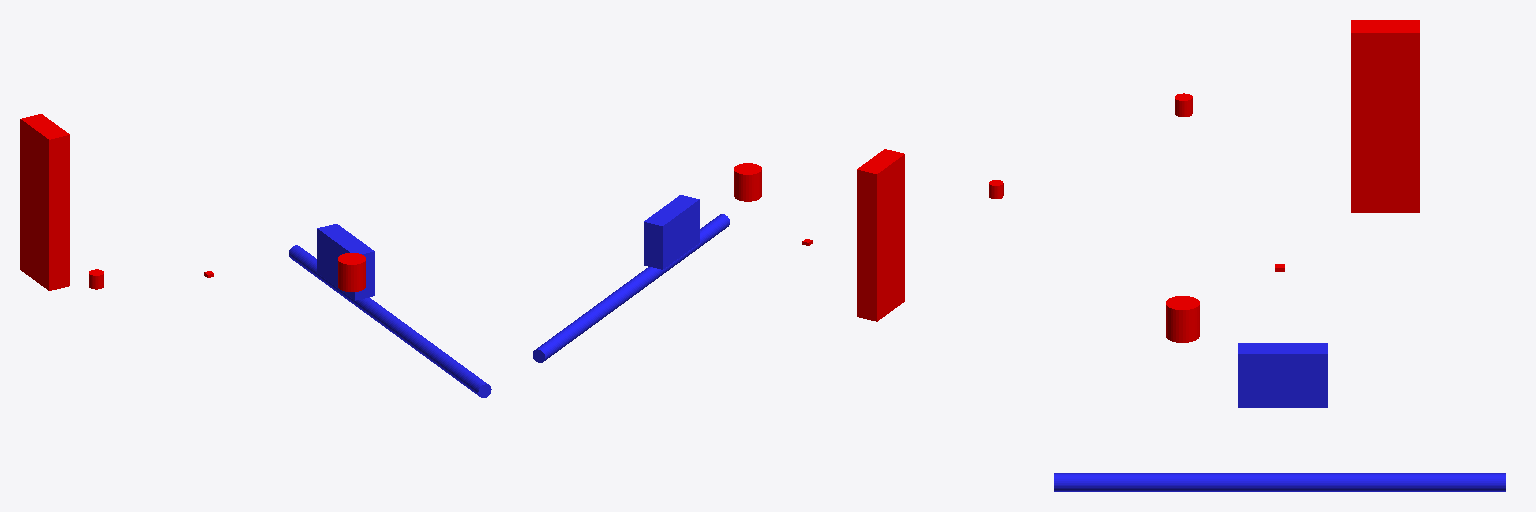
The robot description file, URDF, robot "wheele":
<?xml version="1.0" ?>
<!-- =================================================================================== -->
<!-- |    This document was autogenerated by xacro from model.urdf.xacro               | -->
<!-- |    EDITING THIS FILE BY HAND IS NOT RECOMMENDED                                 | -->
<!-- =================================================================================== -->
<robot name="wheele">
  <!-- Specify some standard inertial calculations https://en.wikipedia.org/wiki/List_of_moments_of_inertia -->
  <!-- These make use of xacro's mathematical functionality -->
  <material name="white">
    <color rgba="1 1 1 1"/>
  </material>
  <material name="orange">
    <color rgba="1 0.3 0.1 1"/>
  </material>
  <material name="blue">
    <color rgba="0.2 0.2 1 1"/>
  </material>
  <material name="black">
    <color rgba="0 0 0 1"/>
  </material>
  <material name="red">
    <color rgba="1 0 0 1"/>
  </material>
  <!-- MACRO FOR THE WHEELS -->
  <!-- BASE LINK -->
  <link name="base_footprint">
    </link>
  <!-- BASE_FOOTPRINT LINK -->
  <joint name="base_footprint_joint" type="fixed">
    <parent link="base_footprint"/>
    <child link="base_link"/>
    <origin rpy="0 0 0" xyz="0 0 0"/>
  </joint>
  <link name="base_link">

    </link>
  <!-- CHASSIS LINK -->
  <joint name="chassis_joint" type="fixed">
    <parent link="base_link"/>
    <child link="chassis"/>
    <origin xyz="0 0 0"/>
  </joint>
  <link name="chassis">
    <visual>
      <origin rpy="0 0 1.5707963267948966" xyz="0 0 0"/>
      <geometry>
        <mesh filename="file:[local-path]/humble_ws/wheele/src/wheele_model/description/src/wheele_model/description/mesh/body_robot_2.dae" scale="1 1 1"/>
      </geometry>
      <material name="orange"/>
    </visual>
    <collision>
      <origin xyz="0 0 0.0965"/>
      <geometry>
        <box size="0.558 0.313 0.193"/>
      </geometry>
    </collision>
    <inertial>
      <origin rpy="0 0 0" xyz="0 0 0.0965"/>
      <mass value="0.5"/>
      <inertia ixx="0.005634083333333333" ixy="0.0" ixz="0.0" iyy="0.01452554166666667" iyz="0.0" izz="0.017055541666666667"/>
    </inertial>
  </link>
  <gazebo reference="chassis">
    <material>Gazebo/Orange</material>
  </gazebo>
  <joint name="base_to_front_right_steering" type="continuous">
    <parent link="base_link"/>
    <child link="front_right_steering"/>
    <origin rpy="0 0 0" xyz="0.1565 0.29050000000000004 0"/>
    <axis xyz="0 0 1"/>
  </joint>
  <!-- fake link to simulate the steering-->
  <link name="front_right_steering">
    <inertial>
      <mass value="0.0005"/>
      <inertia ixx="0.0000018" ixy="0.0" ixz="0.0" iyy="0.0000018" iyz="0.0" izz="0.0000018"/>
    </inertial>
  </link>
  <joint name="steering_to_front_right_wheel" type="continuous">
    <parent link="front_right_steering"/>
    <child link="front_right_wheel"/>
    <origin rpy="0 0 0" xyz="0 0 0.07"/>
    <axis xyz="0 1 0"/>
  </joint>
  <link name="front_right_wheel">
    <visual>
      <geometry>
        <mesh filename="file:[local-path]/humble_ws/wheele/src/wheele_model/description/src/wheele_model/description/mesh/Wheel.dae" scale="1 1 1"/>
      </geometry>
      <origin rpy="0 0 3.141592653589793" xyz="0 0 0"/>
      <material name="white"/>
    </visual>
    <collision>
      <geometry>
        <cylinder length="0.085" radius="0.07"/>
      </geometry>
      <origin rpy="1.5707963267948966 0 0" xyz="0 0 0"/>
    </collision>
    <inertial>
      <origin rpy="0 0 0" xyz="0 0 0"/>
      <mass value="0.05"/>
      <inertia ixx="9.135416666666668e-05" ixy="0.0" ixz="0.0" iyy="9.135416666666668e-05" iyz="0.0" izz="0.00012250000000000002"/>
    </inertial>
  </link>
  <gazebo reference="front_right_wheel">
    <material>Gazebo/Blue</material>
  </gazebo>
  <joint name="base_to_front_left_steering" type="continuous">
    <parent link="base_link"/>
    <child link="front_left_steering"/>
    <origin rpy="0 0 0" xyz="0.1565 -0.29050000000000004 0"/>
    <axis xyz="0 0 1"/>
  </joint>
  <!-- fake link to simulate the steering-->
  <link name="front_left_steering">
    <inertial>
      <mass value="0.0005"/>
      <inertia ixx="0.0000018" ixy="0.0" ixz="0.0" iyy="0.0000018" iyz="0.0" izz="0.0000018"/>
    </inertial>
  </link>
  <joint name="steering_to_front_left_wheel" type="continuous">
    <parent link="front_left_steering"/>
    <child link="front_left_wheel"/>
    <origin rpy="0 0 0" xyz="0 0 0.07"/>
    <axis xyz="0 1 0"/>
  </joint>
  <link name="front_left_wheel">
    <visual>
      <geometry>
        <mesh filename="file:[local-path]/humble_ws/wheele/src/wheele_model/description/src/wheele_model/description/mesh/Wheel.dae" scale="1 1 1"/>
      </geometry>
      <origin rpy="0 0 0.0" xyz="0 0 0"/>
      <material name="white"/>
    </visual>
    <collision>
      <geometry>
        <cylinder length="0.085" radius="0.07"/>
      </geometry>
      <origin rpy="1.5707963267948966 0 0" xyz="0 0 0"/>
    </collision>
    <inertial>
      <origin rpy="0 0 0" xyz="0 0 0"/>
      <mass value="0.05"/>
      <inertia ixx="9.135416666666668e-05" ixy="0.0" ixz="0.0" iyy="9.135416666666668e-05" iyz="0.0" izz="0.00012250000000000002"/>
    </inertial>
  </link>
  <gazebo reference="front_left_wheel">
    <material>Gazebo/Blue</material>
  </gazebo>
  <joint name="base_to_rear_right_steering" type="continuous">
    <parent link="base_link"/>
    <child link="rear_right_steering"/>
    <origin rpy="0 0 0" xyz="-0.1565 0.29050000000000004 0"/>
    <axis xyz="0 0 1"/>
  </joint>
  <!-- fake link to simulate the steering-->
  <link name="rear_right_steering">
    <inertial>
      <mass value="0.0005"/>
      <inertia ixx="0.0000018" ixy="0.0" ixz="0.0" iyy="0.0000018" iyz="0.0" izz="0.0000018"/>
    </inertial>
  </link>
  <joint name="steering_to_rear_right_wheel" type="continuous">
    <parent link="rear_right_steering"/>
    <child link="rear_right_wheel"/>
    <origin rpy="0 0 0" xyz="0 0 0.07"/>
    <axis xyz="0 1 0"/>
  </joint>
  <link name="rear_right_wheel">
    <visual>
      <geometry>
        <mesh filename="file:[local-path]/humble_ws/wheele/src/wheele_model/description/src/wheele_model/description/mesh/Wheel.dae" scale="1 1 1"/>
      </geometry>
      <origin rpy="0 0 3.141592653589793" xyz="0 0 0"/>
      <material name="white"/>
    </visual>
    <collision>
      <geometry>
        <cylinder length="0.085" radius="0.07"/>
      </geometry>
      <origin rpy="1.5707963267948966 0 0" xyz="0 0 0"/>
    </collision>
    <inertial>
      <origin rpy="0 0 0" xyz="0 0 0"/>
      <mass value="0.05"/>
      <inertia ixx="9.135416666666668e-05" ixy="0.0" ixz="0.0" iyy="9.135416666666668e-05" iyz="0.0" izz="0.00012250000000000002"/>
    </inertial>
  </link>
  <gazebo reference="rear_right_wheel">
    <material>Gazebo/Blue</material>
  </gazebo>
  <joint name="base_to_rear_left_steering" type="continuous">
    <parent link="base_link"/>
    <child link="rear_left_steering"/>
    <origin rpy="0 0 0" xyz="-0.1565 -0.29050000000000004 0"/>
    <axis xyz="0 0 1"/>
  </joint>
  <!-- fake link to simulate the steering-->
  <link name="rear_left_steering">
    <inertial>
      <mass value="0.0005"/>
      <inertia ixx="0.0000018" ixy="0.0" ixz="0.0" iyy="0.0000018" iyz="0.0" izz="0.0000018"/>
    </inertial>
  </link>
  <joint name="steering_to_rear_left_wheel" type="continuous">
    <parent link="rear_left_steering"/>
    <child link="rear_left_wheel"/>
    <origin rpy="0 0 0" xyz="0 0 0.07"/>
    <axis xyz="0 1 0"/>
  </joint>
  <link name="rear_left_wheel">
    <visual>
      <geometry>
        <mesh filename="file:[local-path]/humble_ws/wheele/src/wheele_model/description/src/wheele_model/description/mesh/Wheel.dae" scale="1 1 1"/>
      </geometry>
      <origin rpy="0 0 0.0" xyz="0 0 0"/>
      <material name="white"/>
    </visual>
    <collision>
      <geometry>
        <cylinder length="0.085" radius="0.07"/>
      </geometry>
      <origin rpy="1.5707963267948966 0 0" xyz="0 0 0"/>
    </collision>
    <inertial>
      <origin rpy="0 0 0" xyz="0 0 0"/>
      <mass value="0.05"/>
      <inertia ixx="9.135416666666668e-05" ixy="0.0" ixz="0.0" iyy="9.135416666666668e-05" iyz="0.0" izz="0.00012250000000000002"/>
    </inertial>
  </link>
  <gazebo reference="rear_left_wheel">
    <material>Gazebo/Blue</material>
  </gazebo>
  <!-- LEFT WHEEL LINK 

    <joint name="left_wheel_joint" type="continuous">
        <parent link="base_link"/>
        <child link="left_wheel"/>
        <origin xyz="0 ${wheel_offset_y} 0" rpy="-${pi/2} 0 0" />
        <axis xyz="0 0 1"/>
    </joint>

    <link name="left_wheel">
        <visual>
            <geometry>
                <cylinder radius="${wheel_radius}" length="${wheel_thickness}"/>
            </geometry>
            <material name="blue"/>
        </visual>
        <collision>
            <geometry>
                <sphere radius="${wheel_radius}"/>
            </geometry>
        </collision>
        <xacro:inertial_cylinder mass="${wheel_mass}" length="${wheel_thickness}" radius="${wheel_radius}">
            <origin xyz="0 0 0" rpy="0 0 0"/>
        </xacro:inertial_cylinder>
    </link>

    <gazebo reference="left_wheel">
        <material>Gazebo/Blue</material>
    </gazebo>

-->
  <!-- RIGHT WHEEL LINK 

    <joint name="right_wheel_joint" type="continuous">
        <parent link="base_link"/>
        <child link="right_wheel"/>
        <origin xyz="0 ${-wheel_offset_y} 0" rpy="${pi/2} 0 0" />
        <axis xyz="0 0 -1"/>
    </joint>

    <link name="right_wheel">
        <visual>
            <geometry>
                <cylinder radius="${wheel_radius}" length="${wheel_thickness}"/>
            </geometry>
            <material name="blue"/>
        </visual>
        <collision>
            <geometry>
                <sphere radius="${wheel_radius}"/>
            </geometry>
        </collision>
        <xacro:inertial_cylinder mass="${wheel_mass}" length="${wheel_thickness}" radius="${wheel_radius}">
            <origin xyz="0 0 0" rpy="0 0 0"/>
        </xacro:inertial_cylinder>
    </link>

    <gazebo reference="right_wheel">
        <material>Gazebo/Blue</material>
    </gazebo>
-->
  <!-- CASTER WHEEL LINK -->
  <gazebo>
    <plugin filename="gz-sim-ackermann-steering-system" name="gz::sim::systems::AckermannSteering">
      <left_joint>steering_to_front_left_wheel</left_joint>
      <left_joint>steering_to_rear_left_wheel</left_joint>
      <right_joint>steering_to_front_right_wheel</right_joint>
      <right_joint>steering_to_rear_right_wheel</right_joint>
      <left_steering_joint>base_to_front_left_steering</left_steering_joint>
      <right_steering_joint>base_to_front_right_steering</right_steering_joint>
      <kingpin_width>.18</kingpin_width>
      <steering_limit>0.5</steering_limit>
      <wheel_base>.31</wheel_base>
      <wheel_separation>.3</wheel_separation>
      <wheel_radius>0.075</wheel_radius>
      <min_velocity>-100</min_velocity>
      <max_velocity>100</max_velocity>
      <min_acceleration>-5</min_acceleration>
      <max_acceleration>5</max_acceleration>
      <topic>/cmd_vel0</topic>
    </plugin>
    <plugin filename="gz-sim-ackermann-steering-system" name="gz::sim::systems::AckermannSteering">
      <left_joint>steering_to_front_left_wheel</left_joint>
      <left_joint>steering_to_rear_left_wheel</left_joint>
      <right_joint>steering_to_front_right_wheel</right_joint>
      <right_joint>steering_to_rear_right_wheel</right_joint>
      <left_steering_joint>base_to_rear_left_steering</left_steering_joint>
      <right_steering_joint>base_to_rear_right_steering</right_steering_joint>
      <kingpin_width>.18</kingpin_width>
      <steering_limit>0.5</steering_limit>
      <wheel_base>.31</wheel_base>
      <wheel_separation>.3</wheel_separation>
      <wheel_radius>0.075</wheel_radius>
      <min_velocity>-100</min_velocity>
      <max_velocity>100</max_velocity>
      <min_acceleration>-5</min_acceleration>
      <max_acceleration>5</max_acceleration>
      <topic>/cmd_vel1</topic>
    </plugin>
    <plugin filename="gz-sim-joint-state-publisher-system" name="gz::sim::systems::JointStatePublisher">
        </plugin>
    <plugin filename="gz-sim-pose-publisher-system" name="gz::sim::systems::PosePublisher">
      <use_pose_vector_msg>true</use_pose_vector_msg>
      <static_publisher>true</static_publisher>
      <static_update_frequency>1</static_update_frequency>
      <publish_link_pose>true</publish_link_pose>
      <publish_sensor_pose>true</publish_sensor_pose>
      <publish_collision_pose>false</publish_collision_pose>
      <publish_visual_pose>false</publish_visual_pose>
      <publish_nested_model_pose>true</publish_nested_model_pose>
      <!-- this bit is important -->
      <use_pose_vector_msg>true</use_pose_vector_msg>
      <static_publisher>true</static_publisher>
      <static_update_frequency>1</static_update_frequency>
    </plugin>
    <!-- <plugin
            filename="gz-sim-odometry-publisher-system"
            name="gz::sim::systems::OdometryPublisher">
            <odom_frame>odom</odom_frame>
            <odom_topic>/odom</odom_topic>
            <robot_base_frame>base_link</robot_base_frame>
        </plugin> -->
  </gazebo>
  <joint name="laser_joint" type="fixed">
    <parent link="chassis"/>
    <child link="laser"/>
    <origin rpy="0 0 0" xyz="0.19649999999999998 -0.1075 0.213"/>
  </joint>
  <link name="laser">
    <visual>
      <geometry>
        <cylinder length="0.04" radius="0.019"/>
      </geometry>
      <material name="red"/>
    </visual>
    <collision>
      <geometry>
        <cylinder length="0.04" radius="0.019"/>
      </geometry>
    </collision>
    <inertial>
      <origin rpy="0 0 0" xyz="0 0 0"/>
      <mass value="0.1"/>
      <inertia ixx="2.2358333333333332e-05" ixy="0.0" ixz="0.0" iyy="2.2358333333333332e-05" iyz="0.0" izz="1.805e-05"/>
    </inertial>
  </link>
  <gazebo reference="laser">
    <sensor name="LidarCircularSensor" type="gpu_lidar">
      <pose relative_to="laser_joint">0 0 0.013 0 0 0</pose>
      <topic>/scangz</topic>
      <update_rate>10</update_rate>
      <ray>
        <scan>
          <horizontal>
            <samples>640</samples>
            <resolution>1</resolution>
            <min_angle>-2.14159</min_angle>
            <max_angle>2.14159</max_angle>
          </horizontal>
          <vertical>
            <samples>1</samples>
            <resolution>0.01</resolution>
            <min_angle>0</min_angle>
            <max_angle>0</max_angle>
          </vertical>
        </scan>
        <range>
          <min>0.08</min>
          <max>20.0</max>
          <resolution>0.01</resolution>
        </range>
      </ray>
      <always_on>1</always_on>
      <visualize>true</visualize>
      <!-- <frame_id>lidar</frame_id> -->
    </sensor>
  </gazebo>
  <joint name="gps_joint" type="fixed">
    <parent link="chassis"/>
    <child link="gps"/>
    <origin rpy="0 0 0" xyz="-0.1915 -0.1065 0.29300000000000004"/>
  </joint>
  <link name="gps">
    <visual>
      <geometry>
        <cylinder length="0.02" radius="0.01"/>
      </geometry>
      <material name="red"/>
    </visual>
    <collision>
      <geometry>
        <cylinder length="0.02" radius="0.01"/>
      </geometry>
    </collision>
    <inertial>
      <origin rpy="0 0 0" xyz="0 0 0"/>
      <mass value="0.1"/>
      <inertia ixx="5.833333333333333e-06" ixy="0.0" ixz="0.0" iyy="5.833333333333333e-06" iyz="0.0" izz="5e-06"/>
    </inertial>
  </link>
  <gazebo reference="gps">
    <sensor name="navsat" type="navsat">
      <pose relative_to="gps_joint">0 0 0.013 0 0 0</pose>
      <always_on>1</always_on>
      <update_rate>1</update_rate>
      <topic>/navsat</topic>
    </sensor>
  </gazebo>
  <joint name="imu_joint" type="fixed">
    <parent link="chassis"/>
    <child link="imu"/>
    <origin rpy="0 0 0" xyz="0.041499999999999995 0.0 0.203"/>
  </joint>
  <link name="imu">
    <visual>
      <geometry>
        <box size="0.01 0.01 0.005"/>
      </geometry>
      <material name="red"/>
    </visual>
    <collision>
      <geometry>
        <box size="0.01 0.01 0.005"/>
      </geometry>
    </collision>
    <inertial>
      <origin rpy="0 0 0" xyz="0 0 0"/>
      <mass value="0.001"/>
      <inertia ixx="1.0416666666666667e-08" ixy="0.0" ixz="0.0" iyy="1.0416666666666667e-08" iyz="0.0" izz="1.6666666666666667e-08"/>
    </inertial>
  </link>
  <gazebo reference="imu">
    <sensor name="imu_sensor" type="imu">
      <always_on>1</always_on>
      <update_rate>1</update_rate>
      <visualize>true</visualize>
      <topic>/imu</topic>
    </sensor>
  </gazebo>
  <joint name="collision_joint" type="fixed">
    <parent link="chassis"/>
    <child link="collision_sensor"/>
    <origin rpy="1.5707963267948966 0 0" xyz="0.3165 0 0.07"/>
  </joint>
  <link name="collision_sensor">
    <visual>
      <geometry>
        <cylinder length="0.5" radius="0.01"/>
      </geometry>
      <material name="blue"/>
    </visual>
    <collision>
      <geometry>
        <cylinder length="0.5" radius="0.01"/>
      </geometry>
    </collision>
    <inertial>
      <origin rpy="0 0 0" xyz="0 0 0"/>
      <mass value="0.1"/>
      <inertia ixx="0.0020858333333333336" ixy="0.0" ixz="0.0" iyy="0.0020858333333333336" iyz="0.0" izz="5e-06"/>
    </inertial>
  </link>
  <gazebo reference="collision_sensor">
    <sensor name="sensor_contact" type="contact">
      <contact>
        <collision>collision_sensor</collision>
        <topic>/contact</topic>
      </contact>
      <always_on>1</always_on>
      <update_rate>100</update_rate>
    </sensor>
  </gazebo>
  <joint name="camera_joint" type="fixed">
    <parent link="chassis"/>
    <child link="cam_frame"/>
    <origin rpy="0 0 0" xyz="0.2515 0.003500000000000003 0.1705"/>
  </joint>
  <link name="cam_frame">
    <visual>
      <geometry>
        <box size="0.03 0.1 0.065"/>
      </geometry>
      <material name="blue"/>
    </visual>
    <collision>
      <geometry>
        <box size="0.03 0.1 0.065"/>
      </geometry>
    </collision>
    <inertial>
      <origin rpy="0 0 0" xyz="0 0 0.0325"/>
      <mass value="0.5"/>
      <inertia ixx="0.0005927083333333333" ixy="0.0" ixz="0.0" iyy="0.00021354166666666668" iyz="0.0" izz="0.00045416666666666674"/>
    </inertial>
  </link>
  <gazebo reference="cam_frame">
    <sensor name="Camera" type="camera">
      <!-- 
            https://en.wikipedia.org/wiki/PlayStation_Eye
            -->
      <pose relative_to="camera_joint">0.015 0 0 0 0 0</pose>
      <always_on>1</always_on>
      <update_rate>10</update_rate>
      <topic>/gz_camera/image_raw</topic>
      <camera>
        <horizontal_fov>1.3</horizontal_fov>
        <image>
          <width>640</width>
          <height>480</height>
          <format>R8G8B8</format>
        </image>
        <clip>
          <near>0.1</near>
          <far>1000</far>
        </clip>
        <distortion>
          <k1>-0.383727</k1>
          <k2>0.524611</k2>
          <p1>0.007938</p1>
          <p2>0.033545 </p2>
          <k3>1.991965</k3>
          <center>0.5 0.5</center>
        </distortion>
      </camera>
      <enable_metrics>true</enable_metrics>
    </sensor>
  </gazebo>
  <joint name="laserAS_joint" type="fixed">
    <parent link="chassis"/>
    <child link="lidarAS"/>
    <origin rpy="0 0 0" xyz="-0.1405 0.11649999999999999 0.303"/>
  </joint>
  <link name="lidarAS">
    <visual>
      <geometry>
        <box size="0.032 0.076 0.22"/>
      </geometry>
      <material name="red"/>
    </visual>
    <collision>
      <geometry>
        <box size="0.032 0.076 0.22"/>
      </geometry>
    </collision>
    <inertial>
      <origin rpy="0 0 0" xyz="0 0 0.11"/>
      <mass value="0.5"/>
      <inertia ixx="0.0022573333333333334" ixy="0.0" ixz="0.0" iyy="0.0020541666666666664" iyz="0.0" izz="0.00027816666666666663"/>
    </inertial>
  </link>
  <gazebo reference="lidarAS">
    <sensor name="lidarASCircularSensor" type="gpu_lidar">
      <pose relative_to="laserAS_joint">0.016 0.02 0.03 0 0 0</pose>
      <topic>/lidarAS</topic>
      <update_rate>10</update_rate>
      <ray>
        <scan>
          <horizontal>
            <samples>16</samples>
            <resolution>1</resolution>
            <min_angle>-0.7853975</min_angle>
            <max_angle>0.7853975</max_angle>
          </horizontal>
          <vertical>
            <samples>1</samples>
            <resolution>0.01</resolution>
            <min_angle>0</min_angle>
            <max_angle>0</max_angle>
          </vertical>
        </scan>
        <range>
          <min>0.08</min>
          <max>20.0</max>
          <resolution>0.01</resolution>
        </range>
      </ray>
      <always_on>1</always_on>
      <visualize>true</visualize>
    </sensor>
  </gazebo>
</robot>

--- Render facts (derived) ---
3 views of the same robot in one strip: view 1: azimuth 30°, elevation 25°; view 2: azimuth 150°, elevation 25°; view 3: azimuth 270°, elevation 25° (orthographic).
Robot: wheele — 17 links, 16 joints (8 continuous, 8 fixed); root link base_footprint; default pose: every joint at zero.
Visible links, largest first — view 1: lidarAS, collision_sensor, cam_frame, laser; view 2: lidarAS, cam_frame, collision_sensor, laser; view 3: lidarAS, collision_sensor, cam_frame, laser.
Link boxes in pixels (left/top/right/bottom): lidarAS: left=20, top=114, right=69, bottom=290; collision_sensor: left=289, top=245, right=491, bottom=397; cam_frame: left=317, top=224, right=374, bottom=300; laser: left=338, top=253, right=365, bottom=291; lidarAS: left=857, top=149, right=904, bottom=321; cam_frame: left=644, top=195, right=699, bottom=269; collision_sensor: left=533, top=214, right=729, bottom=362; laser: left=734, top=163, right=761, bottom=201; lidarAS: left=1351, top=20, right=1419, bottom=212; collision_sensor: left=1054, top=473, right=1505, bottom=491; cam_frame: left=1238, top=343, right=1327, bottom=407; laser: left=1166, top=296, right=1199, bottom=342.
Size in the robot's own frame: 0.528 by 0.5 by 0.353 metres.
Geometry: only primitive shapes (box / cylinder / sphere) drawn; not drawn: 5 mesh visuals (reference in a form the renderer does not follow).
